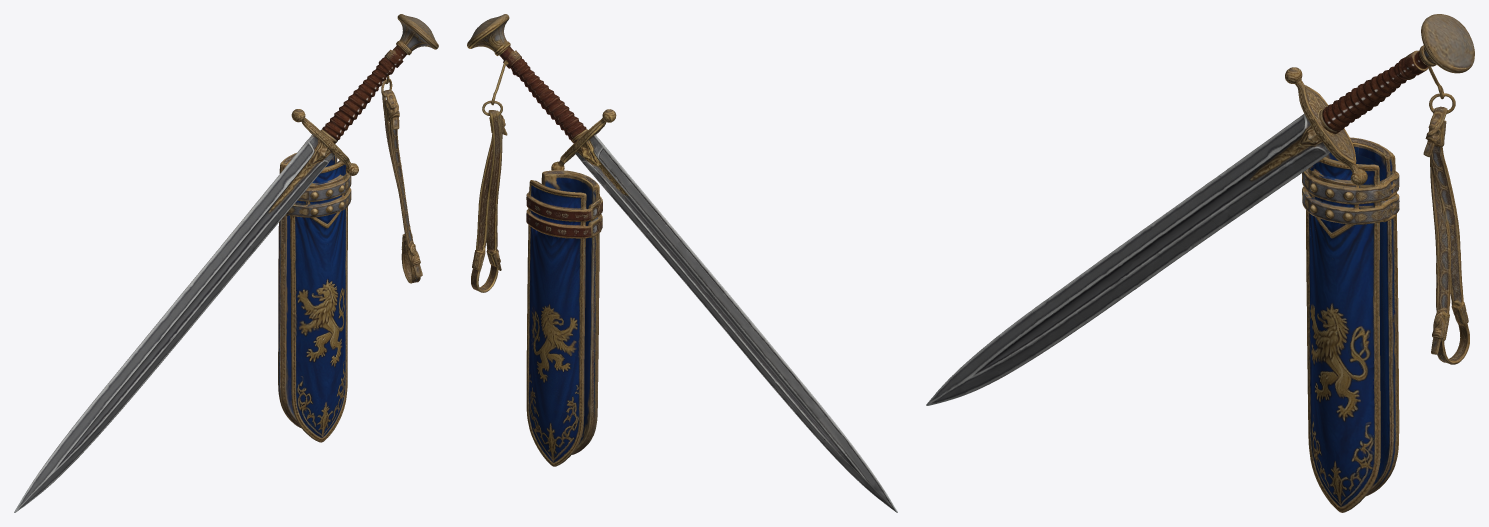
File: SirAldric_SEP_sword_scabbard_PAINTED_mid.fbx
The picture shows the model from 3 angles, left to right: view 1: azimuth 30°, elevation 25°; view 2: azimuth 150°, elevation 25°; view 3: azimuth 330°, elevation 25°; orthographic projection. The views are drawn at different scales.
Visible parts, largest first — view 1: SirAldric_SEP_sword_scabbard_PAINTED_MIDPOLY; view 2: SirAldric_SEP_sword_scabbard_PAINTED_MIDPOLY; view 3: SirAldric_SEP_sword_scabbard_PAINTED_MIDPOLY.
Part boxes in pixels (box(x1,y1,x2,y2)): SirAldric_SEP_sword_scabbard_PAINTED_MIDPOLY: box(14, 14, 438, 512); SirAldric_SEP_sword_scabbard_PAINTED_MIDPOLY: box(467, 14, 897, 512); SirAldric_SEP_sword_scabbard_PAINTED_MIDPOLY: box(926, 14, 1474, 512).
Size of the model in its own units: 1.9 by 1.77 by 0.3211.
1 material, 1 textured.
